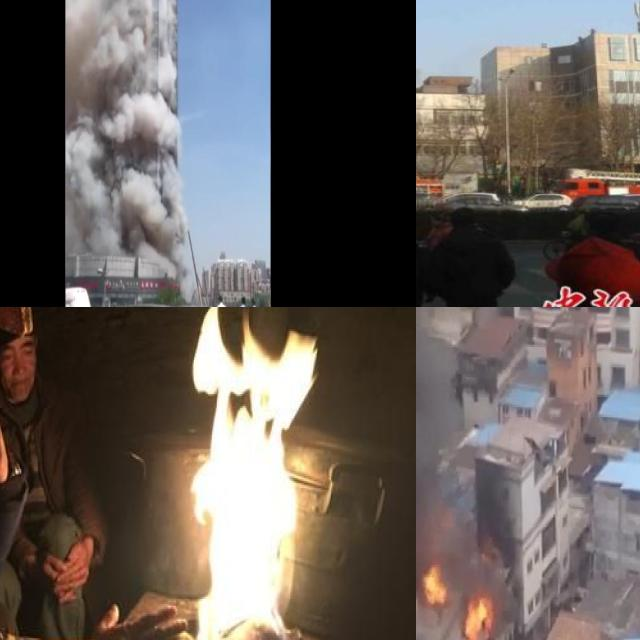fire: (186, 307, 315, 640), (462, 590, 492, 640), (422, 562, 448, 606)
smoke: (416, 307, 510, 640), (63, 0, 167, 243)
